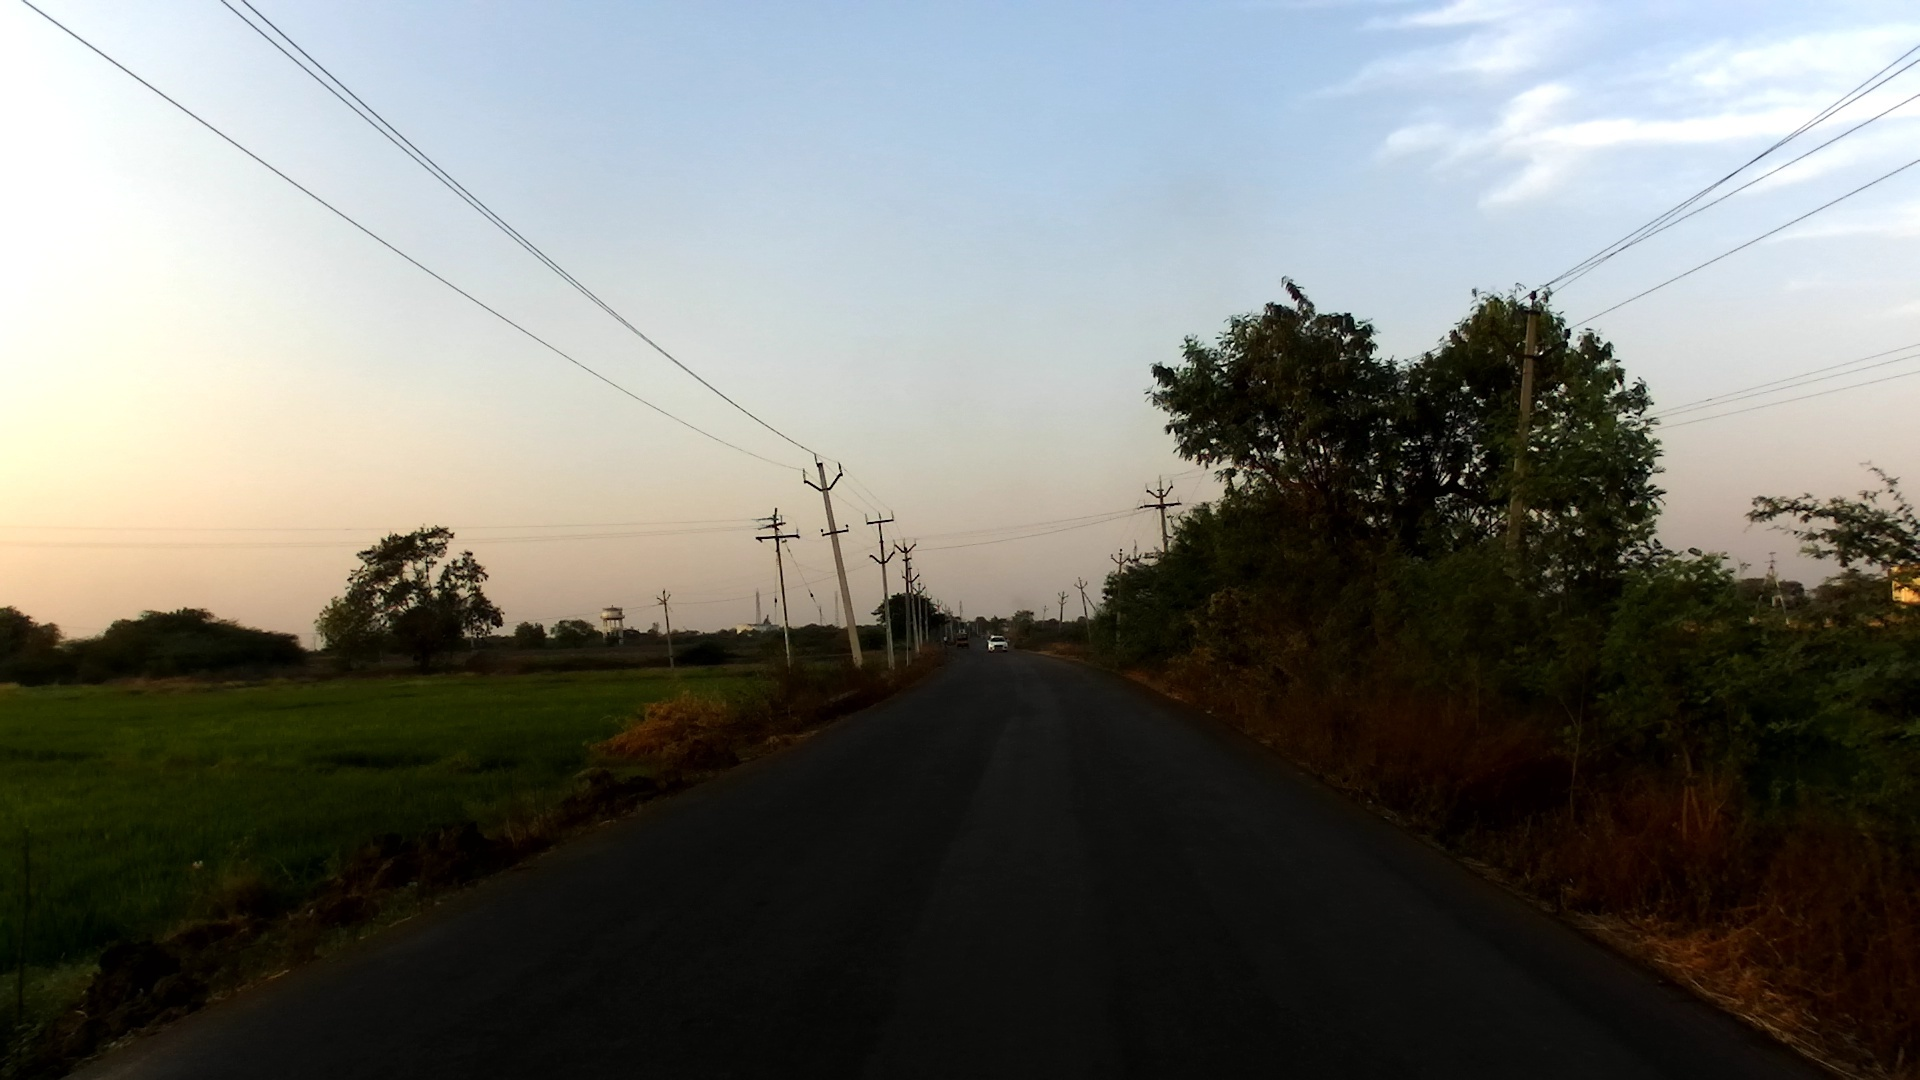car: (985, 635, 1010, 653), (955, 628, 970, 651)
person: (942, 635, 949, 645)
